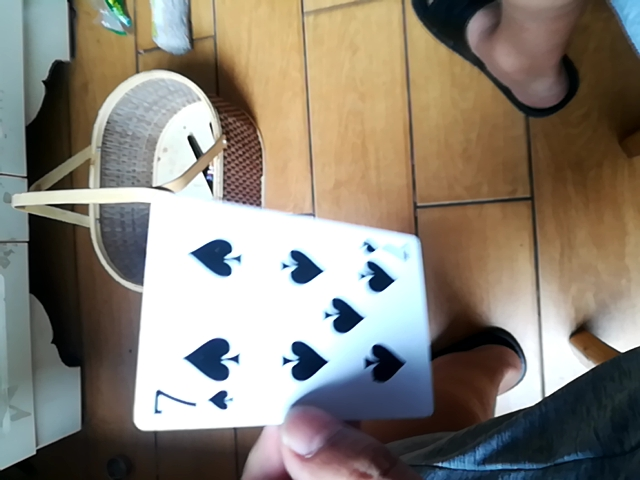ht 7: (135, 191, 440, 438)
